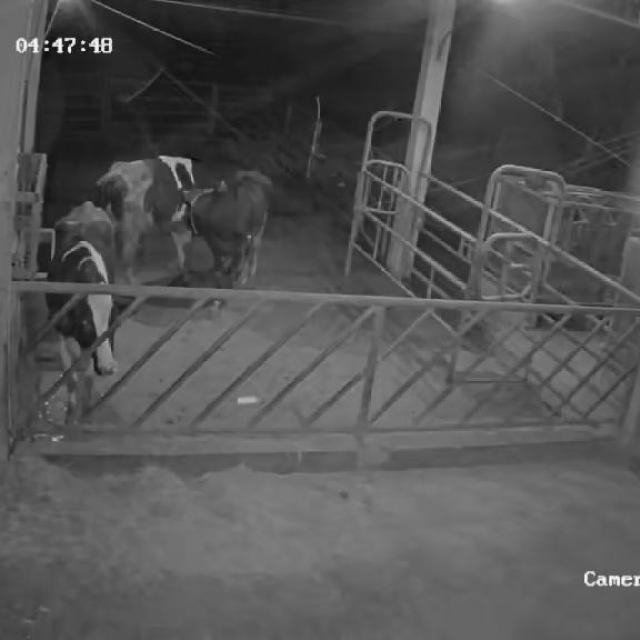standing: (49, 204, 123, 414), (97, 154, 199, 299), (173, 171, 270, 297)
